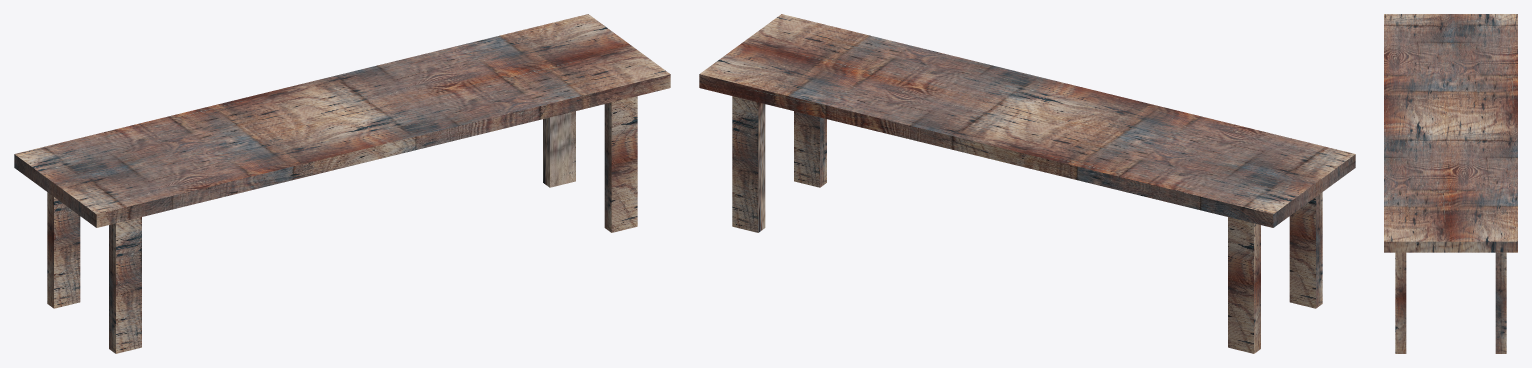
Rendered from bench.fbx.
3 views of the same model, side by side, from view 1: azimuth 30°, elevation 25°; view 2: azimuth 150°, elevation 25°; view 3: azimuth 270°, elevation 25° (orthographic). The views are drawn at different scales.
Visible parts, largest first — view 1: Table; view 2: Table; view 3: Table.
Part boxes in pixels (box(x1,y1,x2,y2)): Table: box(14, 14, 670, 353); Table: box(699, 14, 1355, 353); Table: box(1384, 14, 1517, 353).
Bounding box in the file's own units: 220 × 55.3 × 54.67.
